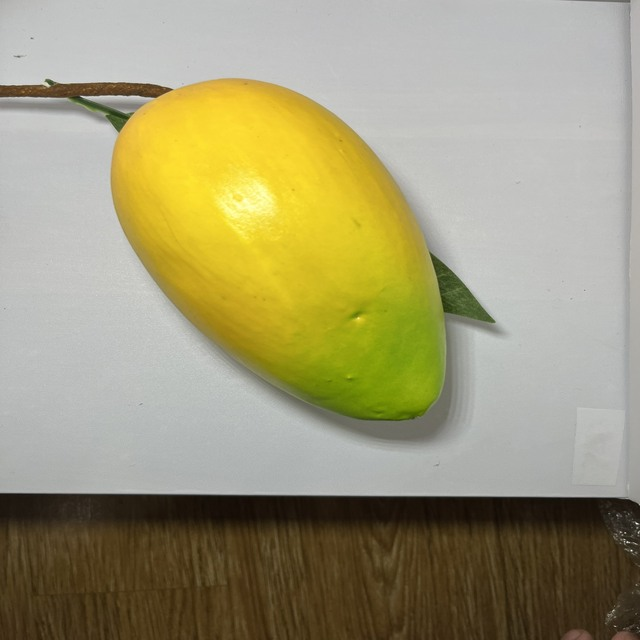Xoai: (54, 0, 537, 510)
